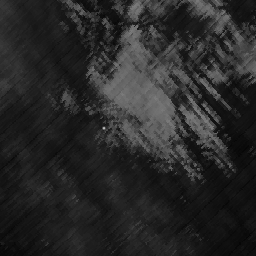Target: (101, 125, 106, 131)
